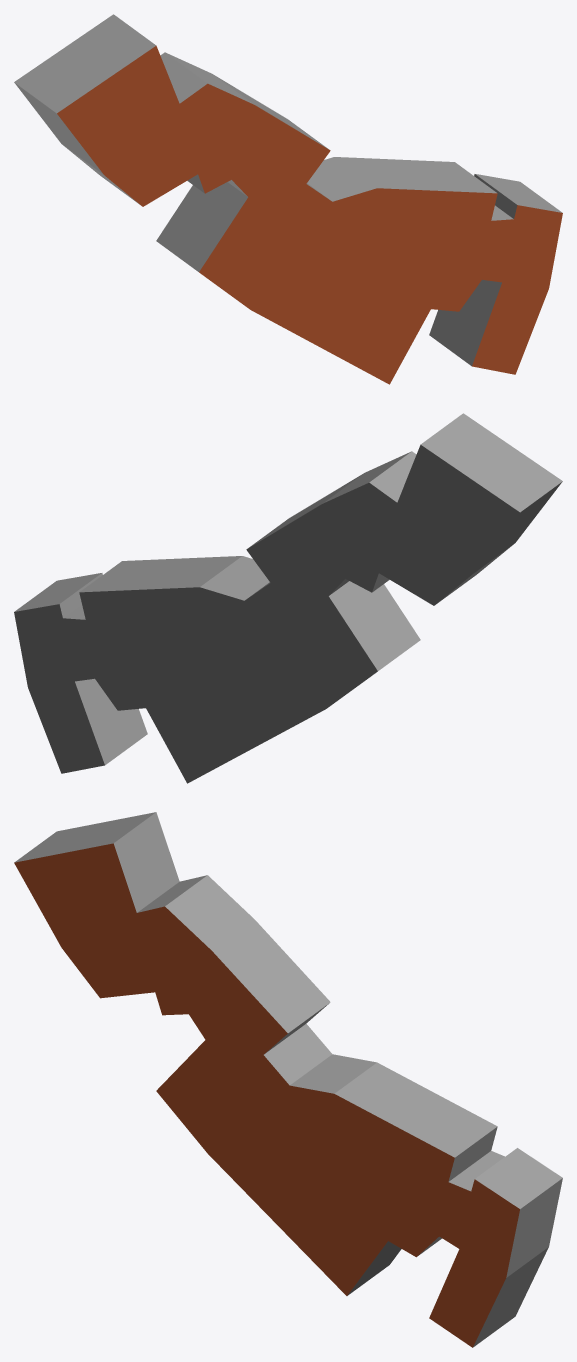
The model's file is construction_7127_assumed_A_Casa_h6m.obj.
The picture shows the model from 3 angles, top to bottom: view 1: azimuth 30°, elevation 25°; view 2: azimuth 150°, elevation 25°; view 3: azimuth 330°, elevation 25°; orthographic projection.
Parts seen in each view (by area): view 1: construction_7127_assumed_A_Casa; view 2: construction_7127_assumed_A_Casa; view 3: construction_7127_assumed_A_Casa.
Part boxes in pixels (x1,y1,x2,y2): construction_7127_assumed_A_Casa: [14, 14, 562, 384]; construction_7127_assumed_A_Casa: [14, 413, 562, 783]; construction_7127_assumed_A_Casa: [14, 812, 562, 1347].
Bounding box in the file's own units: 40.95 × 32.23 × 6.
